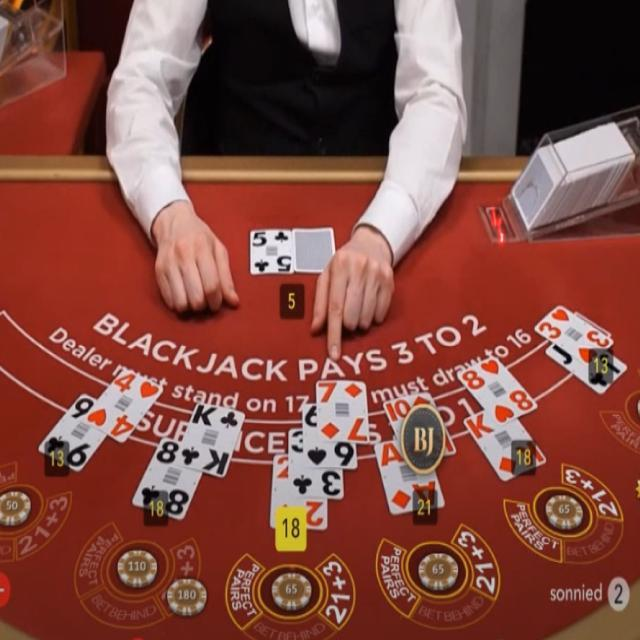Card-10: (383, 391, 457, 462)
Card-2: (270, 454, 327, 531)
Card-3: (534, 304, 614, 368), (289, 429, 343, 498)
Card-4: (85, 368, 164, 443)
Card-5: (250, 226, 293, 274)
Card-6: (304, 403, 357, 468)
Card-7: (317, 382, 368, 443)
Card-8: (132, 436, 202, 521), (457, 355, 538, 427)
Card-9: (38, 390, 107, 473)
Card-A: (374, 441, 445, 516)
Card-J: (545, 343, 627, 395)
Card-K: (463, 410, 547, 481), (175, 401, 245, 477)
